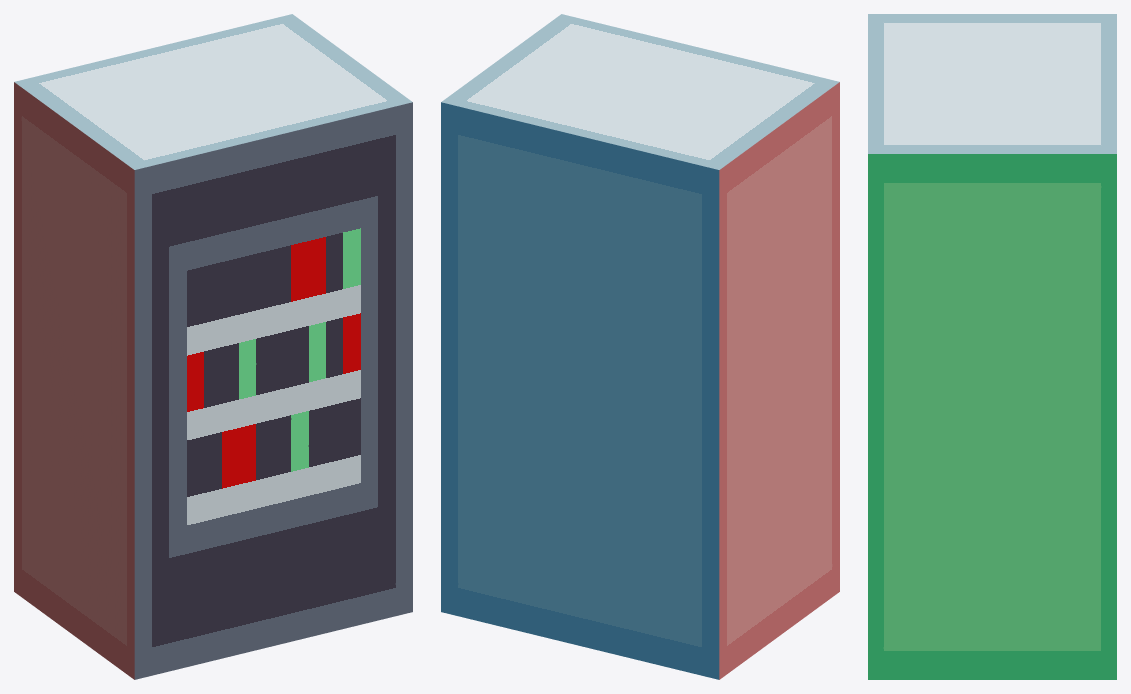
Rendered from vending_machine.gltf.
The picture shows the model from 3 angles, left to right: view 1: azimuth 30°, elevation 25°; view 2: azimuth 150°, elevation 25°; view 3: azimuth 270°, elevation 25°; orthographic projection. The views are drawn at different scales.
Visible parts, largest first — view 1: mesh; view 2: mesh; view 3: mesh.
Boxes of the visible parts, x1,y1,x2,y2 form: mesh: [14, 14, 412, 679]; mesh: [441, 14, 839, 679]; mesh: [868, 14, 1116, 679].
Size of the model in its own units: 1 by 1.75 by 0.75.
1 material, 1 textured.
